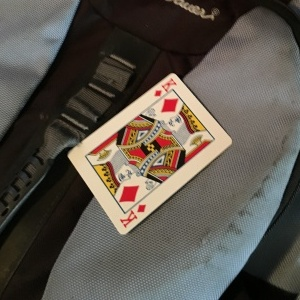card: (67, 72, 233, 236)
